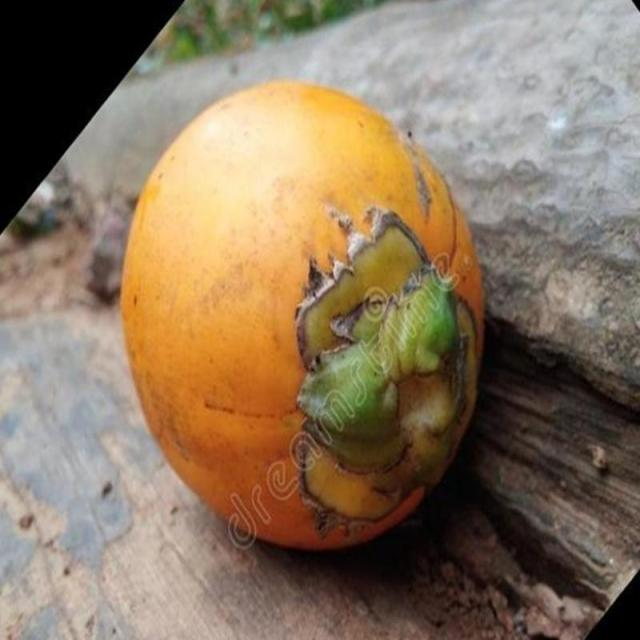good: (117, 80, 488, 556)
